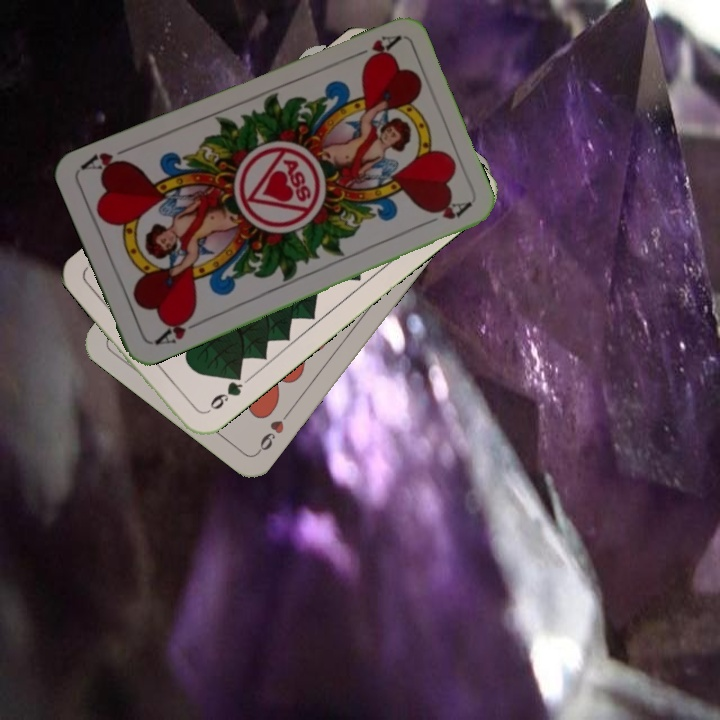G9: (200, 368, 246, 417)
H9: (253, 405, 294, 456)
HA: (150, 309, 205, 348), (345, 31, 402, 68)
